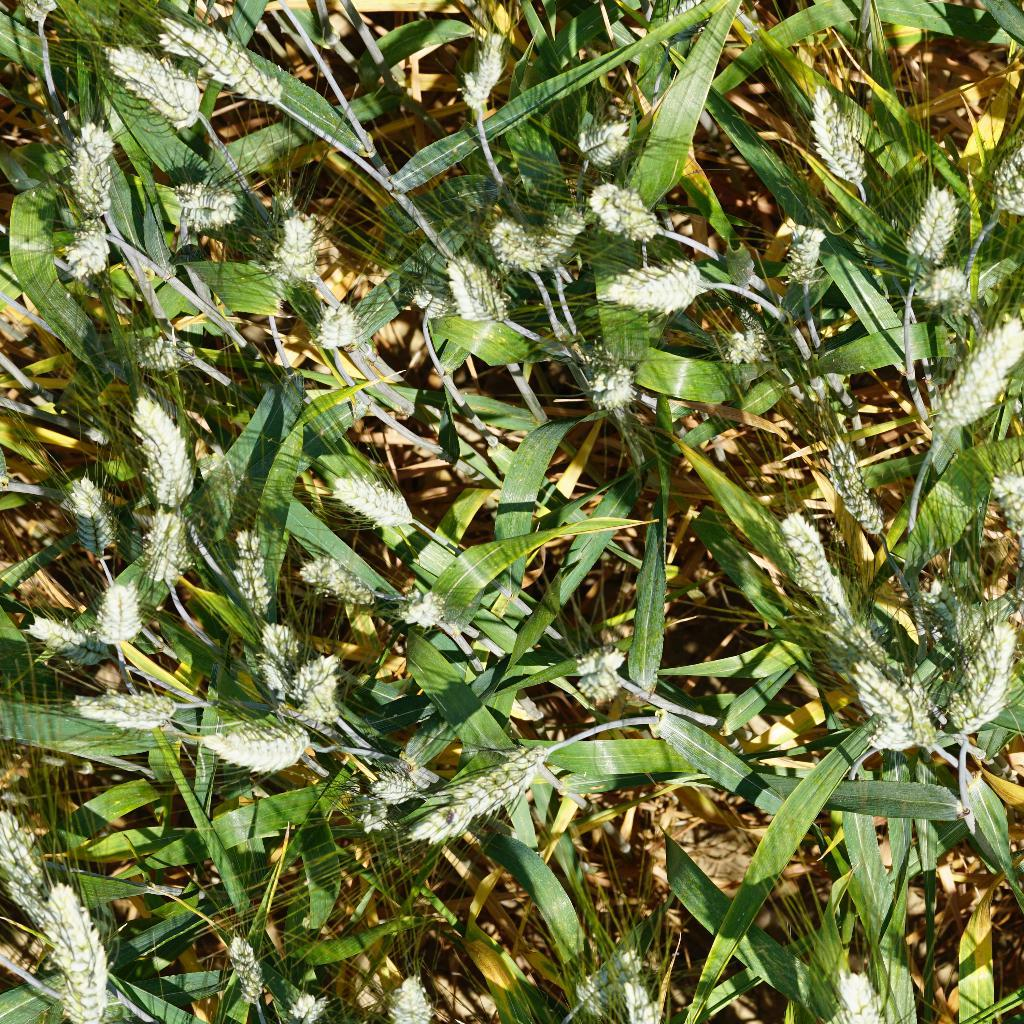0-0: (392, 731, 563, 844), (150, 2, 298, 116), (916, 303, 1024, 452), (97, 38, 217, 142), (48, 881, 126, 1024), (948, 600, 1023, 742), (123, 392, 208, 509), (815, 433, 901, 544), (600, 250, 727, 324), (195, 710, 318, 783), (780, 508, 856, 626), (324, 468, 432, 548), (802, 85, 881, 190), (552, 930, 642, 1016), (845, 656, 925, 752), (58, 112, 122, 231), (258, 186, 328, 294), (477, 205, 582, 276), (48, 475, 123, 574), (0, 811, 62, 930), (75, 677, 185, 742), (580, 176, 672, 246), (455, 19, 516, 122), (108, 316, 209, 377), (983, 467, 1024, 617), (164, 171, 247, 245), (295, 550, 378, 624), (216, 515, 279, 610), (910, 567, 977, 656), (292, 657, 369, 733), (78, 572, 146, 654), (217, 925, 275, 1020), (245, 617, 313, 698), (900, 183, 970, 260), (904, 245, 990, 305), (441, 262, 509, 335), (830, 961, 907, 1024), (568, 100, 634, 171), (49, 213, 120, 279), (567, 630, 631, 703), (575, 359, 650, 419), (658, 0, 735, 58), (607, 973, 693, 1024), (382, 583, 460, 639), (406, 276, 471, 342), (299, 299, 362, 367), (133, 511, 189, 586), (774, 213, 833, 283), (985, 115, 1024, 210), (372, 971, 434, 1024), (724, 318, 774, 381), (365, 759, 418, 815), (18, 608, 88, 649)
